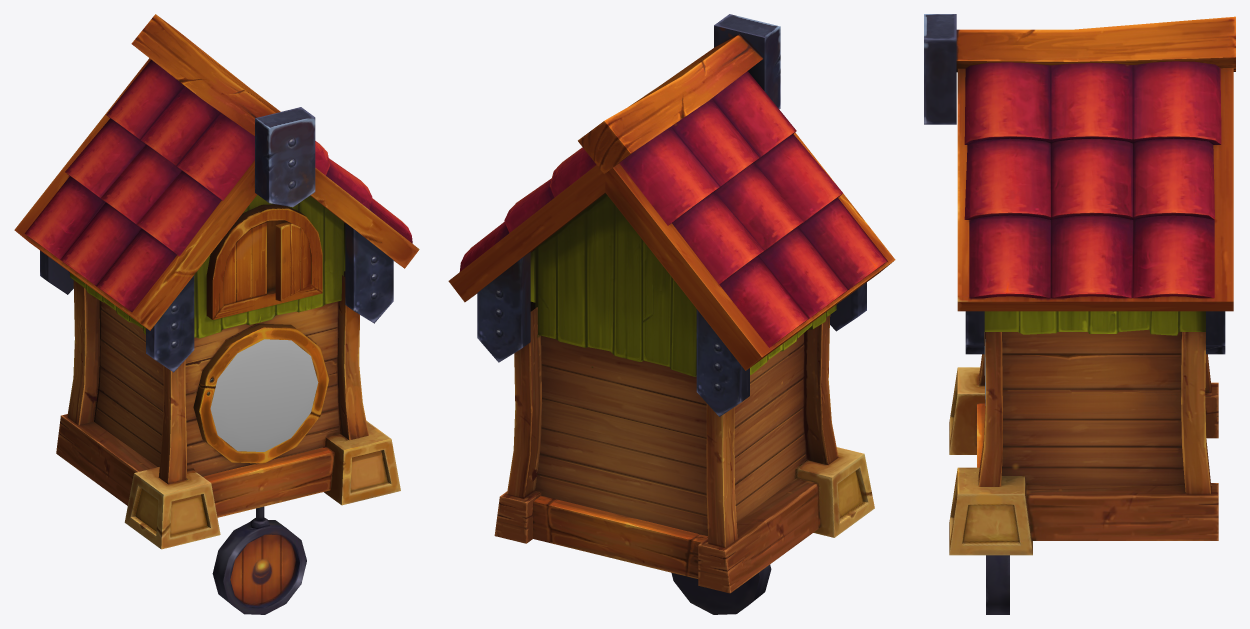
Rendered from House-Clock.fbx.
The picture shows the model from 3 angles, left to right: view 1: azimuth 30°, elevation 25°; view 2: azimuth 150°, elevation 25°; view 3: azimuth 270°, elevation 25°; orthographic projection. The views are drawn at different scales.
Parts seen in each view (by area): view 1: House_Clock; view 2: House_Clock; view 3: House_Clock.
Boxes of the visible parts, left/top/right/bottom form: House_Clock: left=14, top=14, right=419, bottom=614; House_Clock: left=448, top=14, right=895, bottom=614; House_Clock: left=924, top=14, right=1235, bottom=614.
Size of the model in its own units: 2.5 by 4.22 by 2.01.
